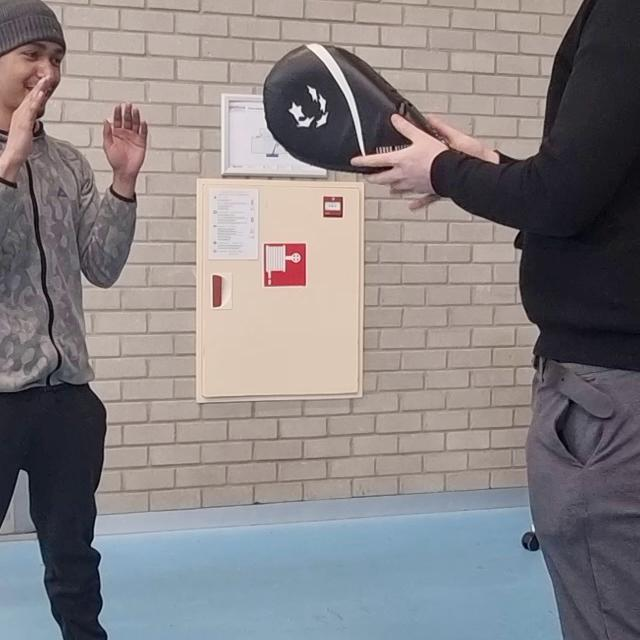paddle: (263, 42, 446, 175)
